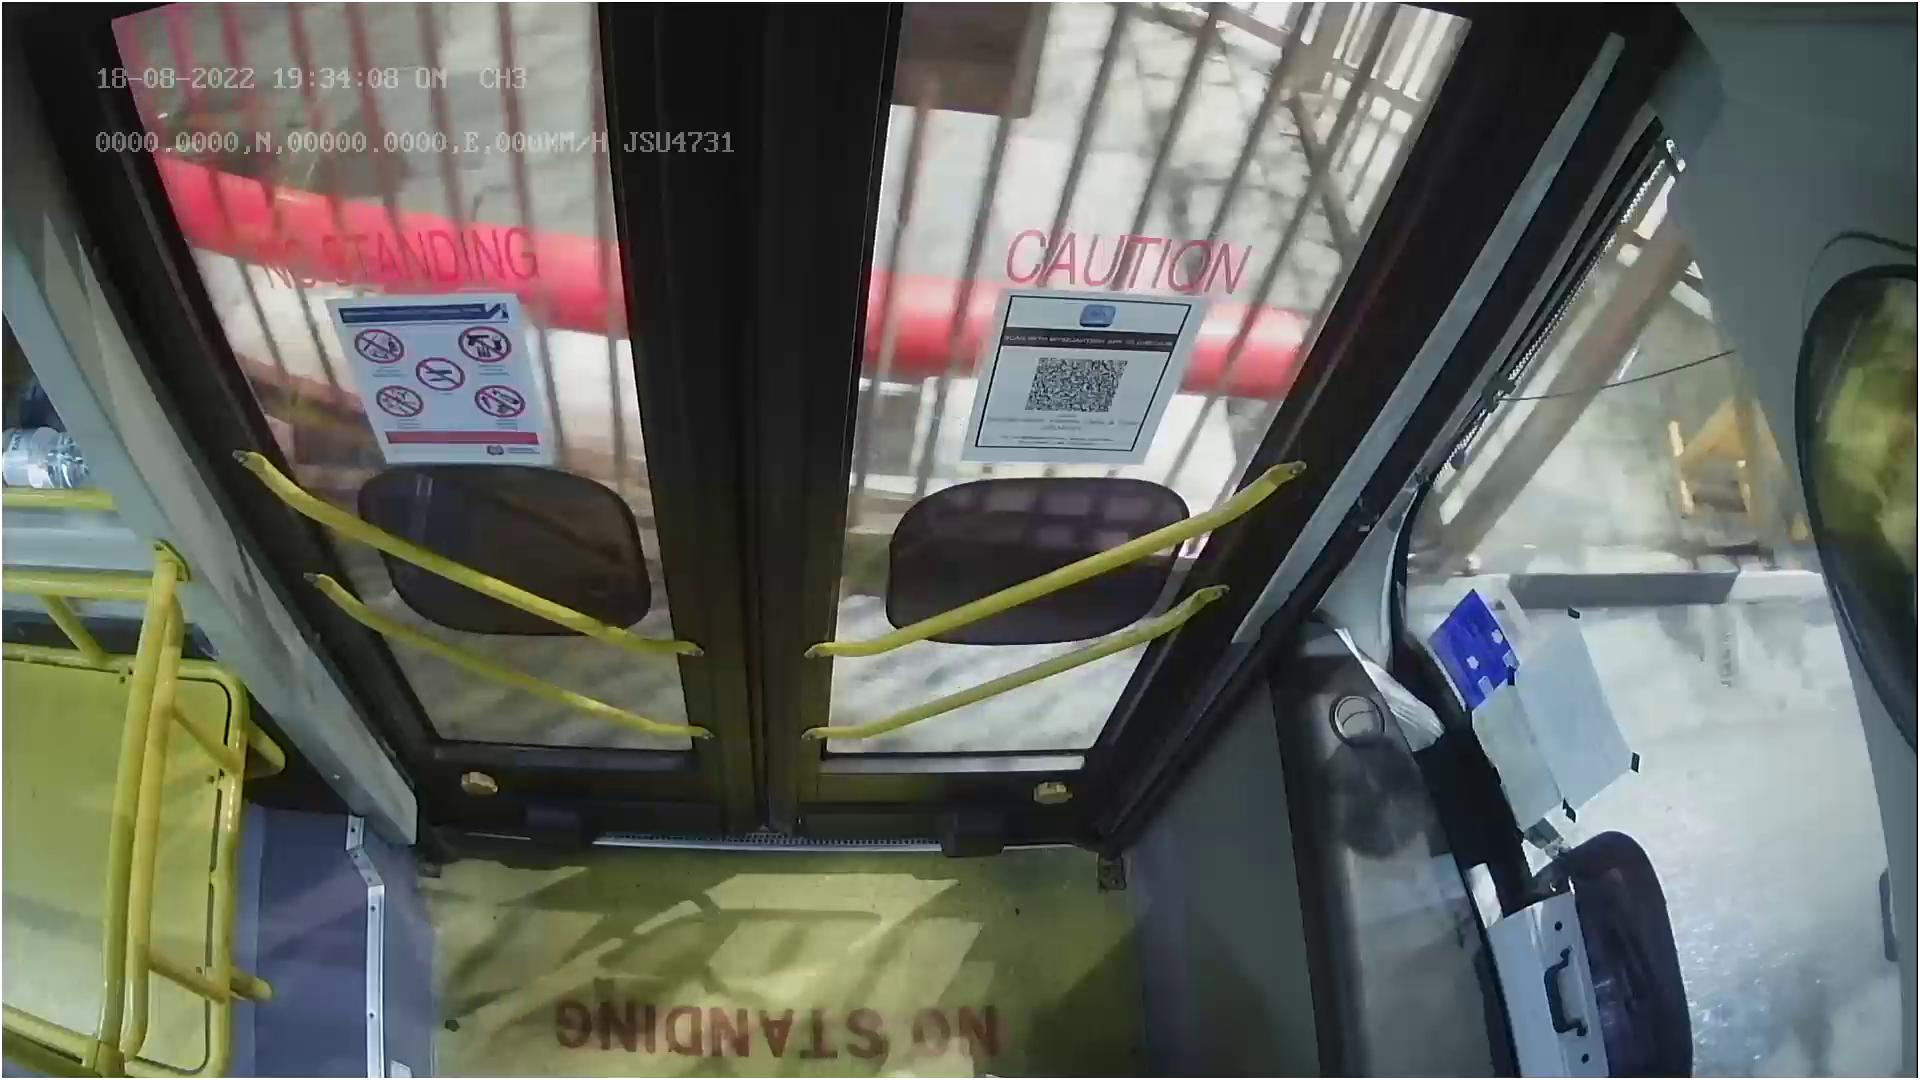close: (127, 0, 1444, 169)
